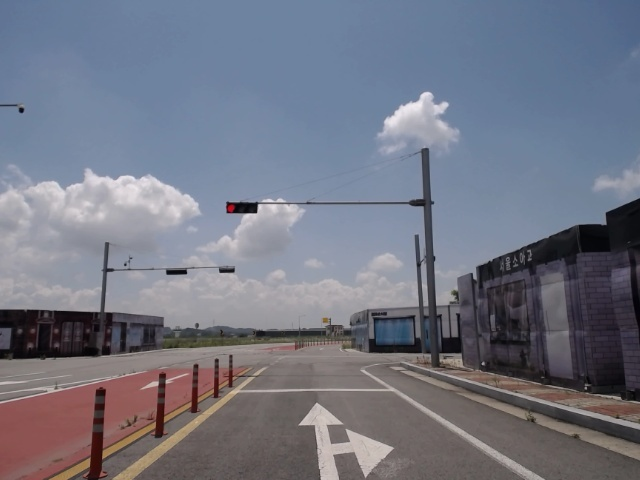red_3: (224, 199, 260, 215)
